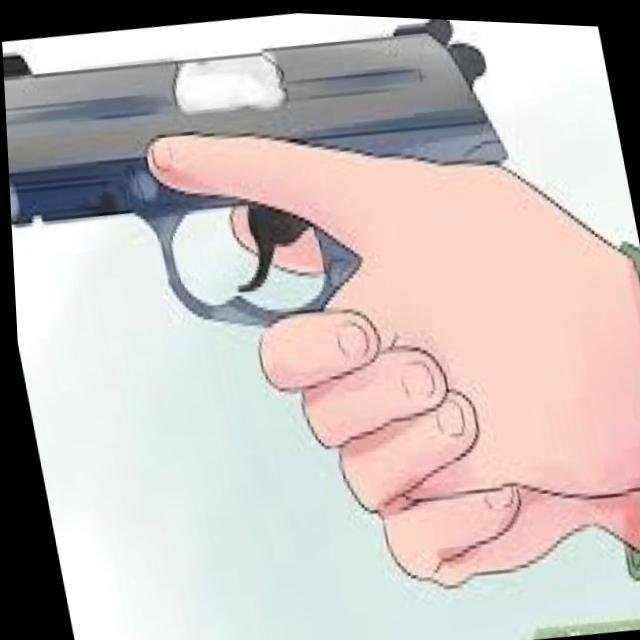weapon: (0, 0, 535, 366)
